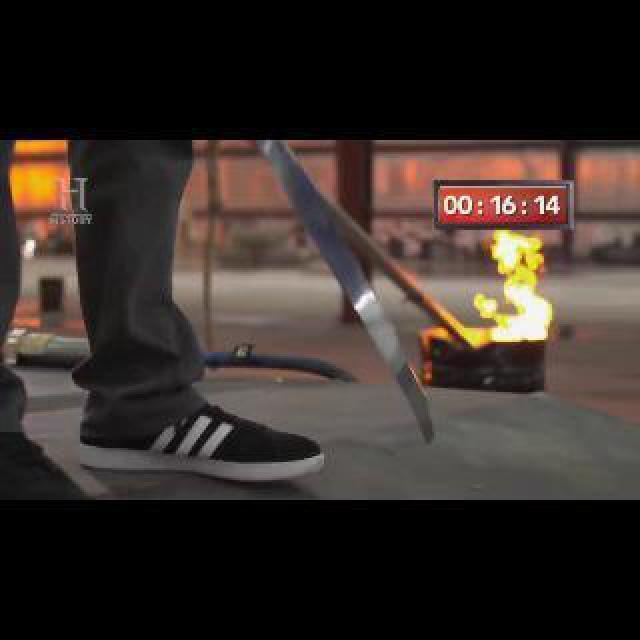Fire: (482, 234, 554, 340)
